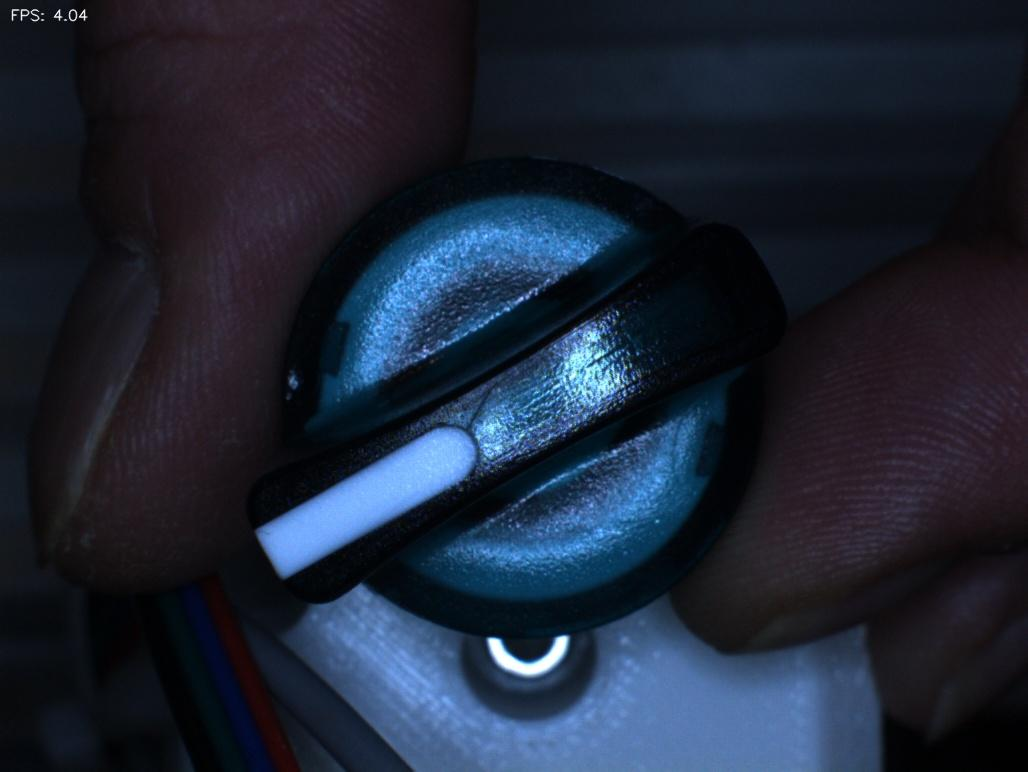Choc: (261, 335, 336, 427)
